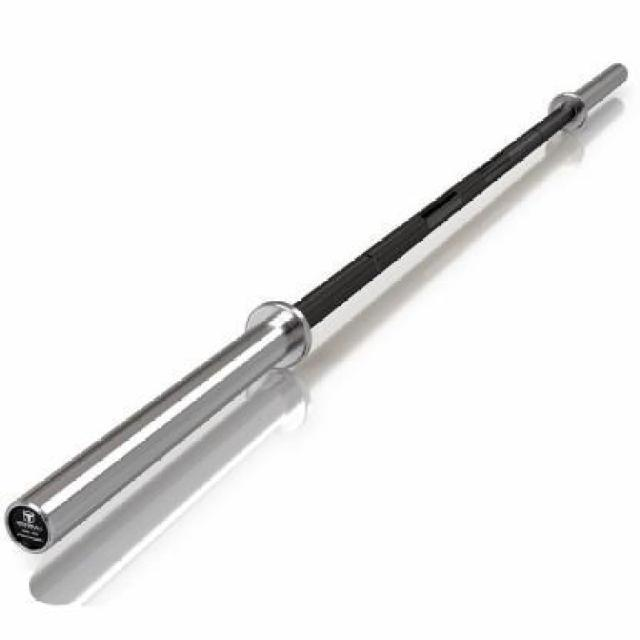barbell: (1, 298, 319, 563)
